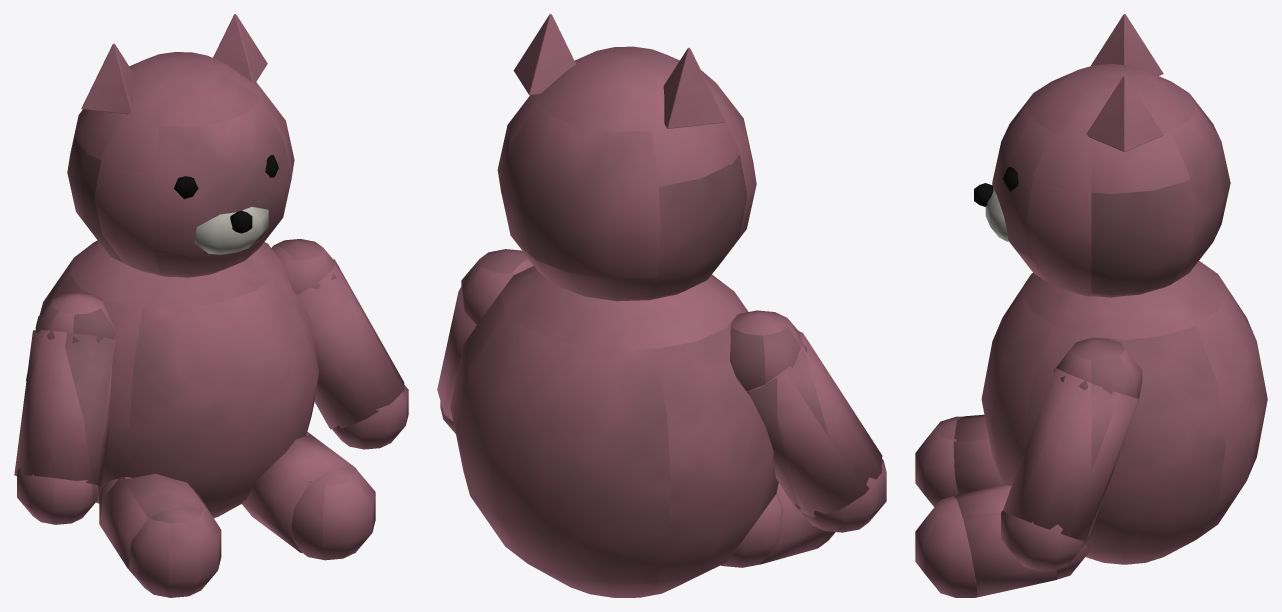
File: TY11_plush_animal_v4.glb
3 views of the same model, side by side, from view 1: azimuth 30°, elevation 25°; view 2: azimuth 150°, elevation 25°; view 3: azimuth 270°, elevation 25° (orthographic). The views are drawn at different scales.
Visible parts, largest first — view 1: TY11_plush_animal_v4; view 2: TY11_plush_animal_v4; view 3: TY11_plush_animal_v4.
Part boxes in pixels (x1,y1,x2,y2): TY11_plush_animal_v4: [14, 14, 408, 597]; TY11_plush_animal_v4: [437, 14, 886, 597]; TY11_plush_animal_v4: [915, 14, 1267, 597].
Size of the model in its own units: 0.3237 by 0.4 by 0.2504.
Materials: 3 (3 with a texture image).
